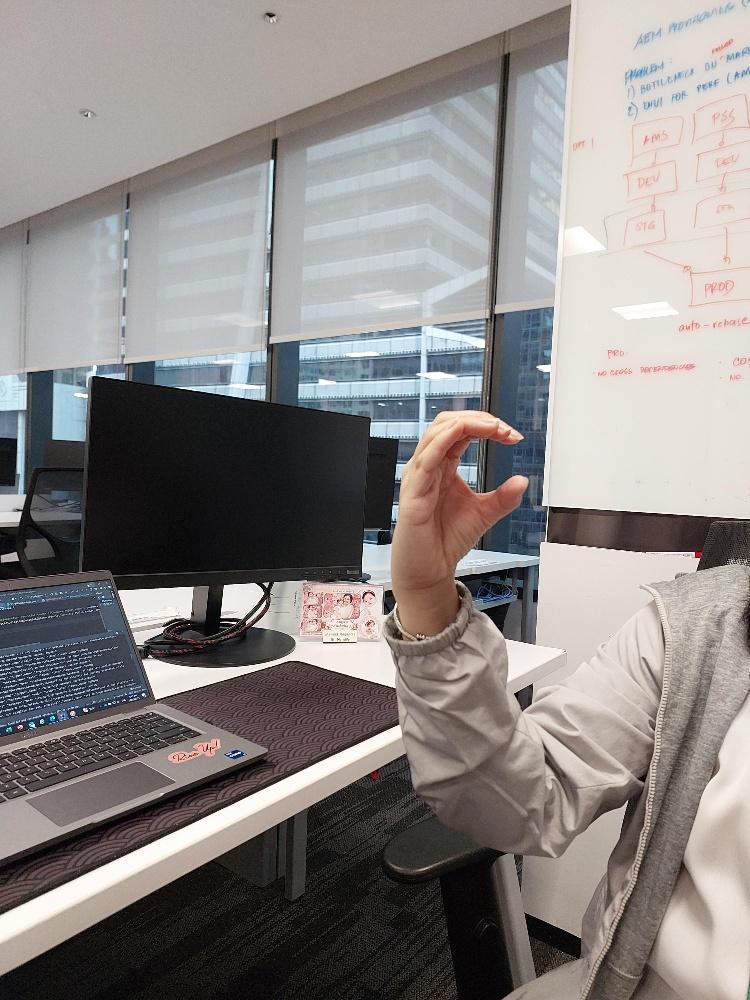c: (388, 407, 526, 580)
